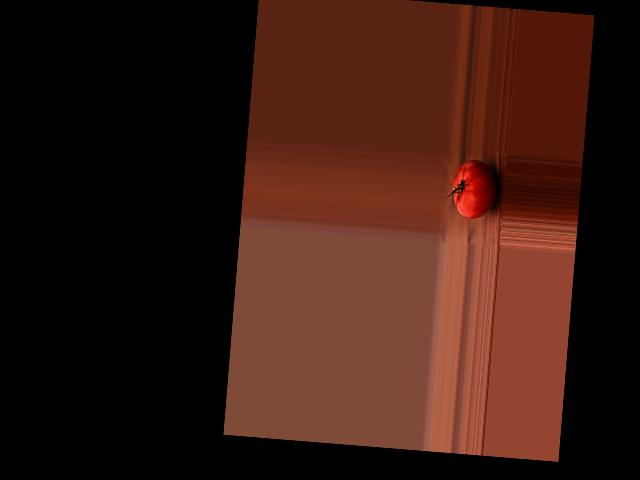tomato: (450, 159, 499, 221)
